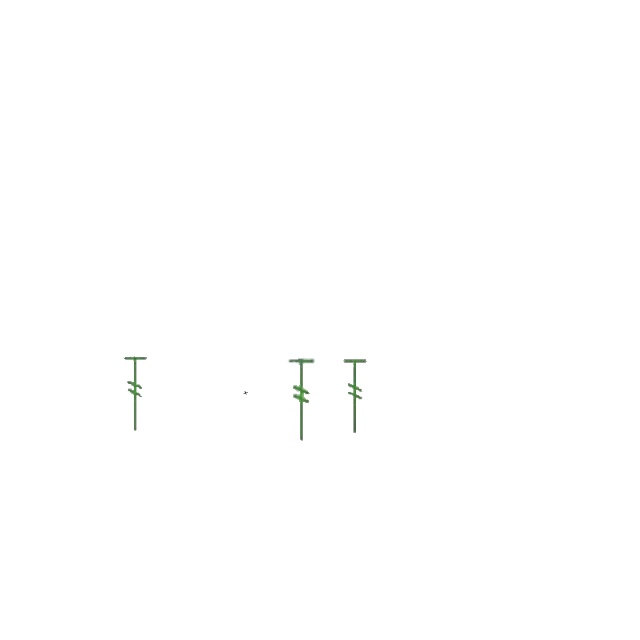enseble_chain: (244, 391, 248, 395)
fan: (286, 357, 316, 443), (122, 353, 150, 435), (342, 357, 370, 435)
